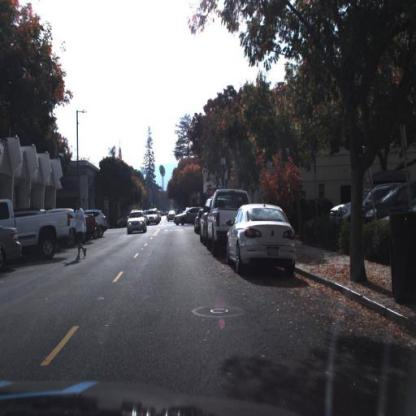car: (225, 198, 300, 283), (1, 198, 75, 261), (8, 196, 75, 261), (329, 178, 403, 225), (361, 180, 415, 226), (204, 187, 229, 262), (332, 180, 371, 225), (125, 201, 149, 238), (173, 205, 195, 228), (86, 213, 100, 244), (96, 210, 111, 238), (84, 215, 97, 240)
pedestrian: (68, 199, 88, 262)
